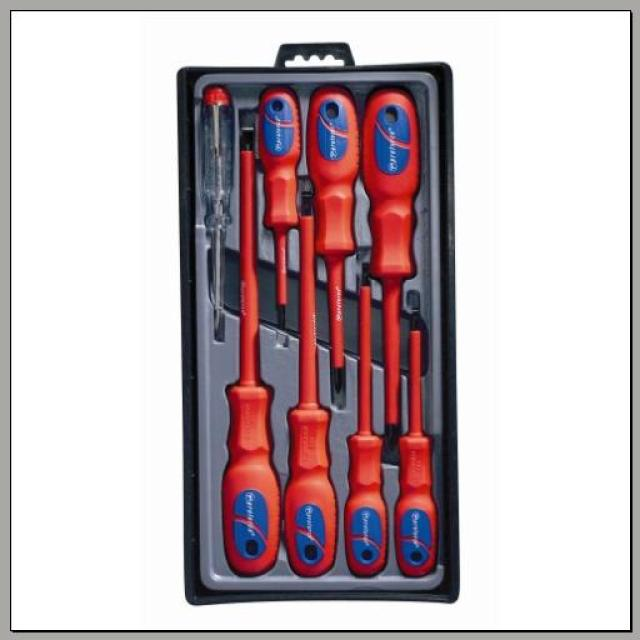screw driver: (215, 99, 283, 572), (279, 179, 345, 563), (171, 84, 250, 385), (335, 253, 395, 572), (381, 288, 448, 566), (358, 93, 408, 462), (251, 83, 302, 337)
